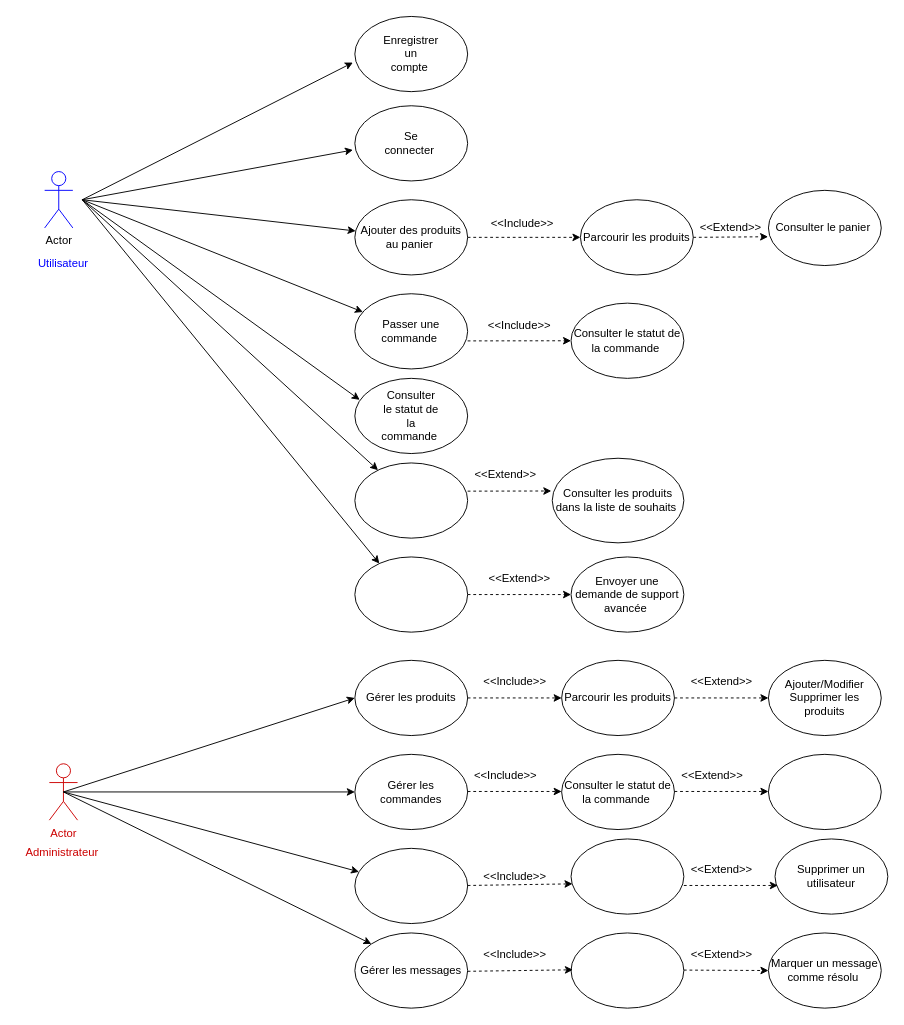
This 904x1025 diagram has some shape labels left out. The shapes that lost their labels are listed below. From the top down, each one's centre as x and y in pixels, then its label:
At point 411,500: "Ajouter des produits à la liste de souhaits".
At point 411,594: "Contacter le support (messages)".
At point 824,791: "Traiter une commande en attente".
At point 411,885: "Gérer les utilisateurs".
At point 627,876: "Consulter les détails de l'utilisateur".
At point 627,970: "Consulter les messages".
